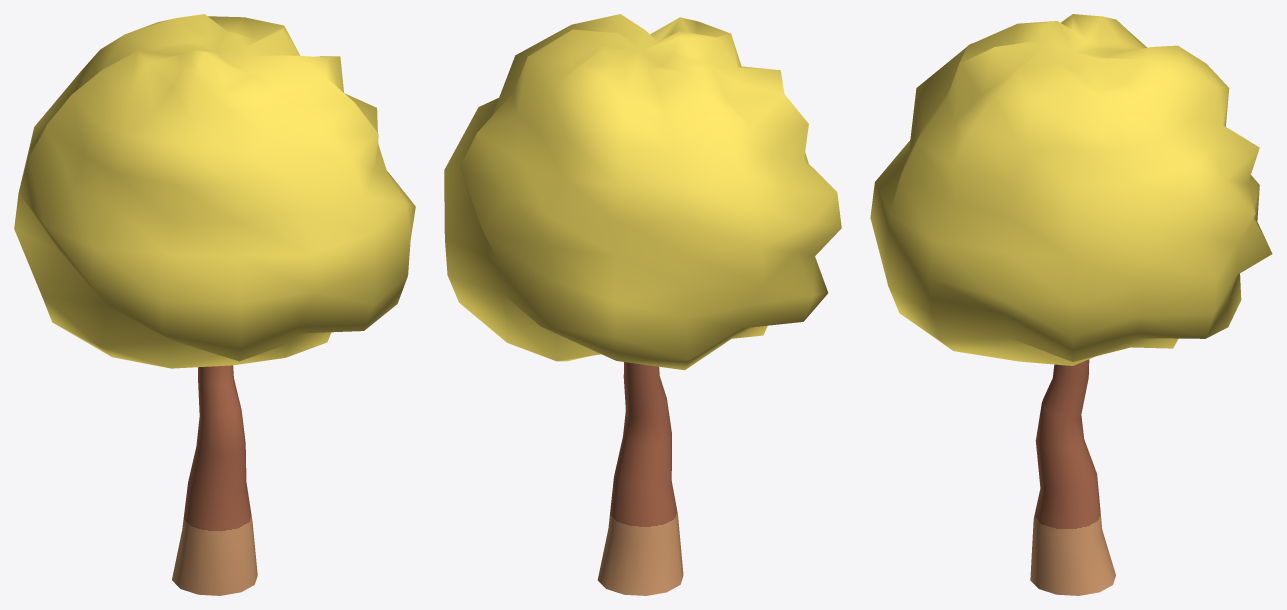
The model's file is ArbolSeco_03.fbx.
3 renders of one model, left to right at view 1: azimuth 30°, elevation 25°; view 2: azimuth 150°, elevation 25°; view 3: azimuth 270°, elevation 25°, orthographic.
Visible parts, largest first — view 1: ArbolSeco_03; view 2: ArbolSeco_03; view 3: ArbolSeco_03.
Part boxes in pixels (<box>): ArbolSeco_03: <box>14,14,415,595</box>; ArbolSeco_03: <box>444,14,841,595</box>; ArbolSeco_03: <box>870,14,1272,595</box>.
Size of the model in its own units: 1536 by 2282 by 1536.
